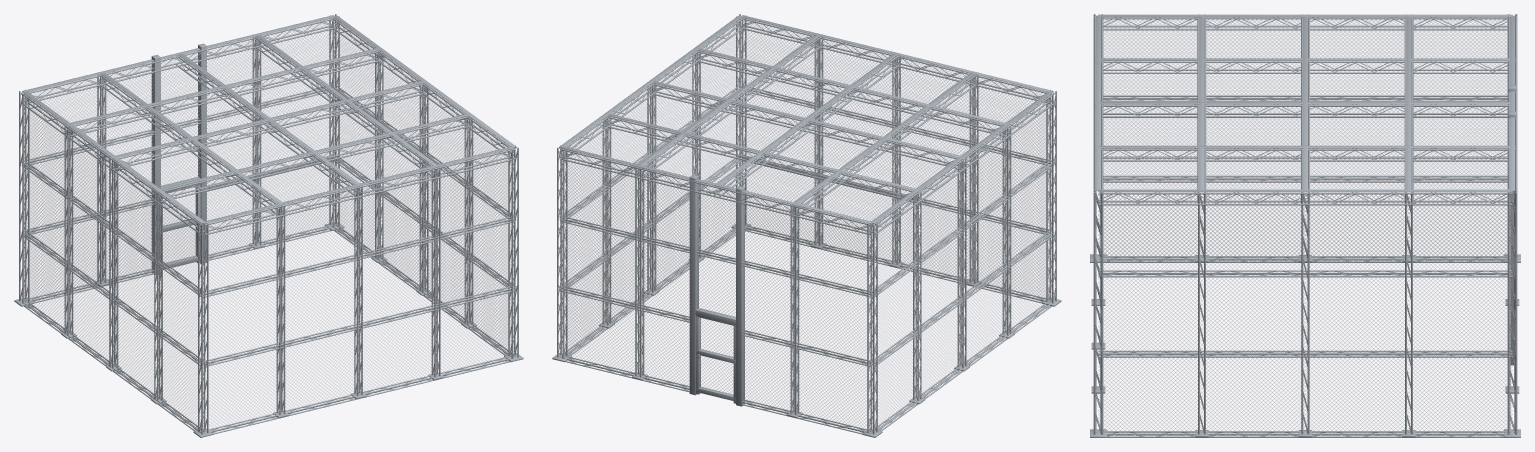
Rendered from hell_in_a_cell.glb.
3 renders of one model, left to right at view 1: azimuth 30°, elevation 25°; view 2: azimuth 150°, elevation 25°; view 3: azimuth 270°, elevation 25°, orthographic. The views are drawn at different scales.
Visible parts, largest first — view 1: TopFrame, Wall_PZ, NX_frame, PX_frame, PZ_frame, Wall_NX, NZ_frame, Wall_PX, MeshLeft, MeshRight, Surface.005, Surface.011 (+17 smaller); view 2: TopFrame, NX_frame, Wall_PZ, NZ_frame, Wall_NX, PX_frame, MeshLeft, MeshRight, PZ_frame, Wall_PX, MeshAbove, Surface.001 (+17 smaller); view 3: Wall_PX, TopFrame, Wall_NX, PX_frame, NX_frame, NZ_frame, Surface.006, Surface.007, Surface.011, Surface.004, Surface.015, Surface.010 (+11 smaller).
Part boxes in pixels (box(x1,y1,x2,y2)): TopFrame: box(21, 15, 516, 235); Wall_PZ: box(203, 150, 511, 431); NX_frame: box(14, 89, 213, 437); PX_frame: box(324, 14, 523, 362); PZ_frame: box(203, 166, 515, 434); Wall_NX: box(24, 97, 202, 427); NZ_frame: box(24, 33, 335, 303); Wall_PX: box(335, 21, 511, 351); MeshLeft: box(24, 64, 152, 300); MeshRight: box(207, 20, 332, 255); Surface.005: box(151, 89, 263, 135); Surface.011: box(319, 135, 430, 182); TopFrame: box(559, 15, 1054, 235); NX_frame: box(862, 89, 1061, 437); Wall_PZ: box(743, 20, 1051, 300); NZ_frame: box(560, 166, 872, 434); Wall_NX: box(873, 97, 1051, 427); PX_frame: box(552, 14, 751, 362); MeshLeft: box(743, 195, 872, 431); MeshRight: box(564, 150, 689, 387); PZ_frame: box(740, 33, 1051, 303); Wall_PX: box(564, 21, 740, 351); MeshAbove: box(697, 184, 735, 317); Surface.001: box(844, 141, 957, 187); Wall_PX: box(1098, 192, 1512, 432); TopFrame: box(1094, 14, 1516, 205); Wall_NX: box(1098, 20, 1507, 257); PX_frame: box(1090, 189, 1520, 437); NX_frame: box(1090, 14, 1520, 262); NZ_frame: box(1505, 58, 1519, 432); Surface.006: box(1205, 61, 1302, 101); Surface.007: box(1101, 61, 1198, 101); Surface.011: box(1101, 105, 1198, 145); Surface.004: box(1412, 61, 1509, 101); Surface.015: box(1101, 149, 1198, 189); Surface.010: box(1205, 105, 1302, 145).
Bounding box in the file's own units: 9.78 × 6.28 × 9.78.
2 materials, 2 textured.
